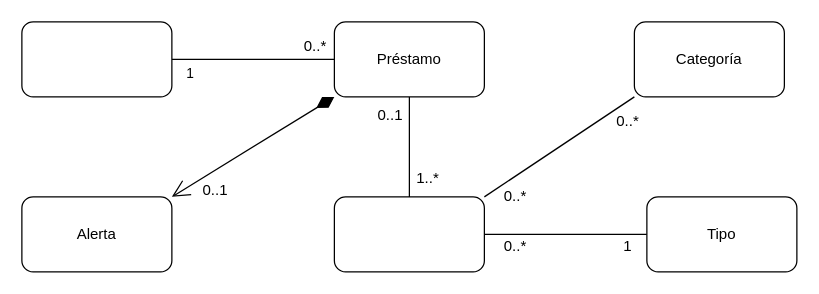
This 819x294 diagram has some shape labels left out. The shapes that lost their labels are listed below. From the top down, each one's centre as x and y in pixels, then its label:
At pixel 96 59: "Persona".
At pixel 408 234: "Ítem".
